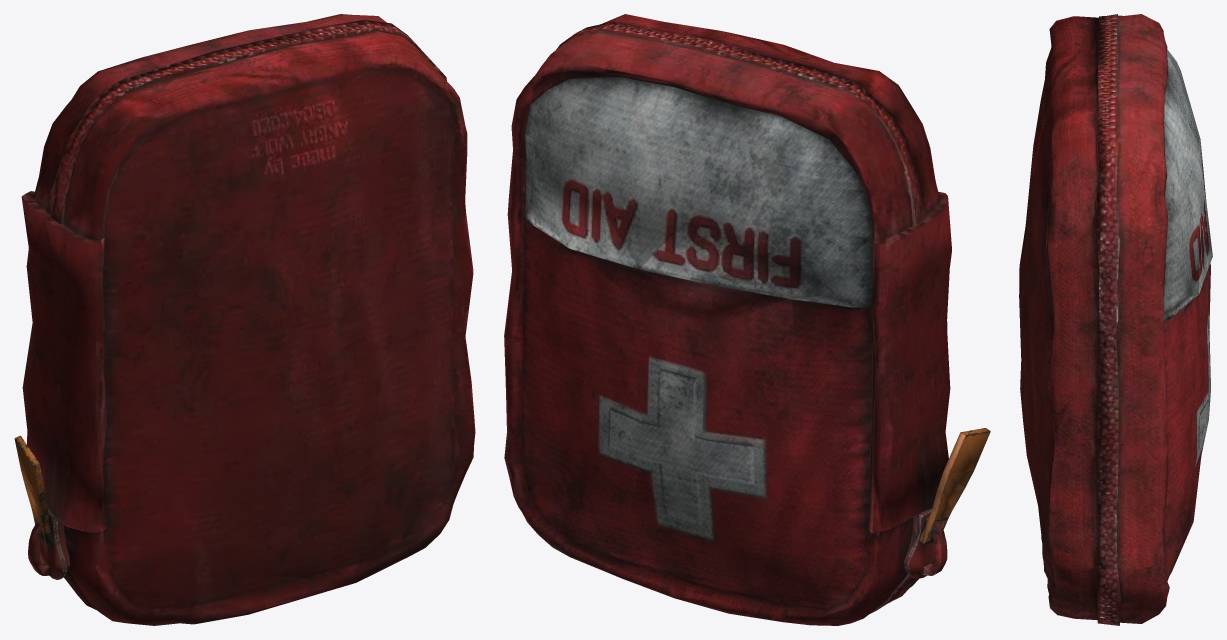
The model's file is medkit.glb.
3 renders of one model, left to right at view 1: azimuth 30°, elevation 25°; view 2: azimuth 150°, elevation 25°; view 3: azimuth 270°, elevation 25°, orthographic. The views are drawn at different scales.
Visible parts, largest first — view 1: dev_aptechka_low.ogf; view 2: dev_aptechka_low.ogf; view 3: dev_aptechka_low.ogf.
Boxes of the visible parts, <box> form: dev_aptechka_low.ogf: <box>14,14,475,625</box>; dev_aptechka_low.ogf: <box>504,14,990,625</box>; dev_aptechka_low.ogf: <box>1019,14,1212,625</box>.
Bounding box in the file's own units: 0.1916 × 0.225 × 0.0776.
Materials: 1 (1 with a texture image).
